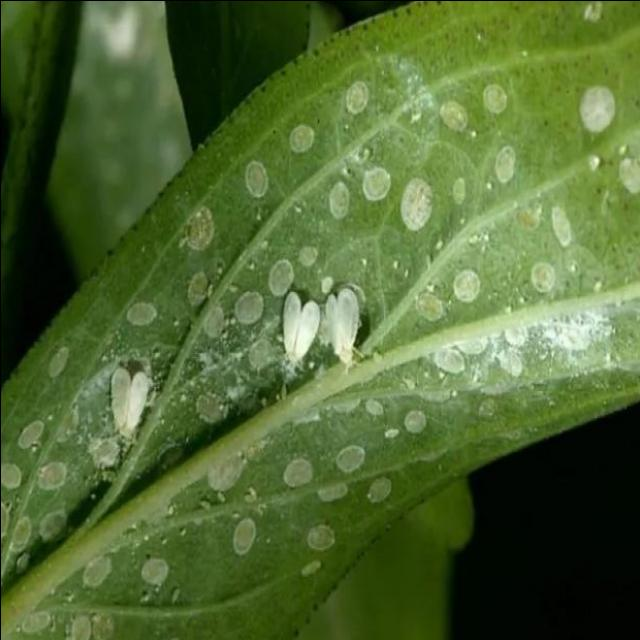Whitefly: (436, 57, 576, 291), (184, 439, 386, 551), (310, 73, 430, 247), (393, 301, 614, 376), (68, 347, 169, 466), (258, 270, 370, 376), (0, 422, 81, 566), (571, 52, 640, 202), (190, 314, 244, 413), (164, 198, 216, 292), (233, 142, 290, 222), (388, 382, 438, 453)
